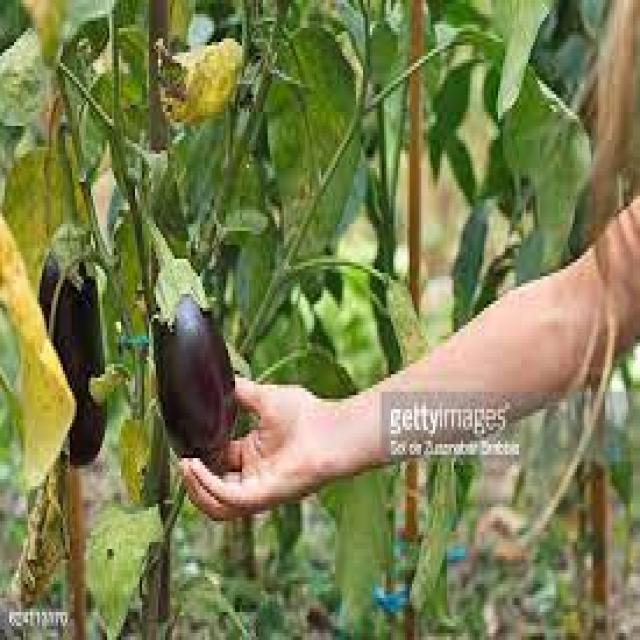Eggplant: (142, 220, 238, 465), (36, 193, 110, 471)
